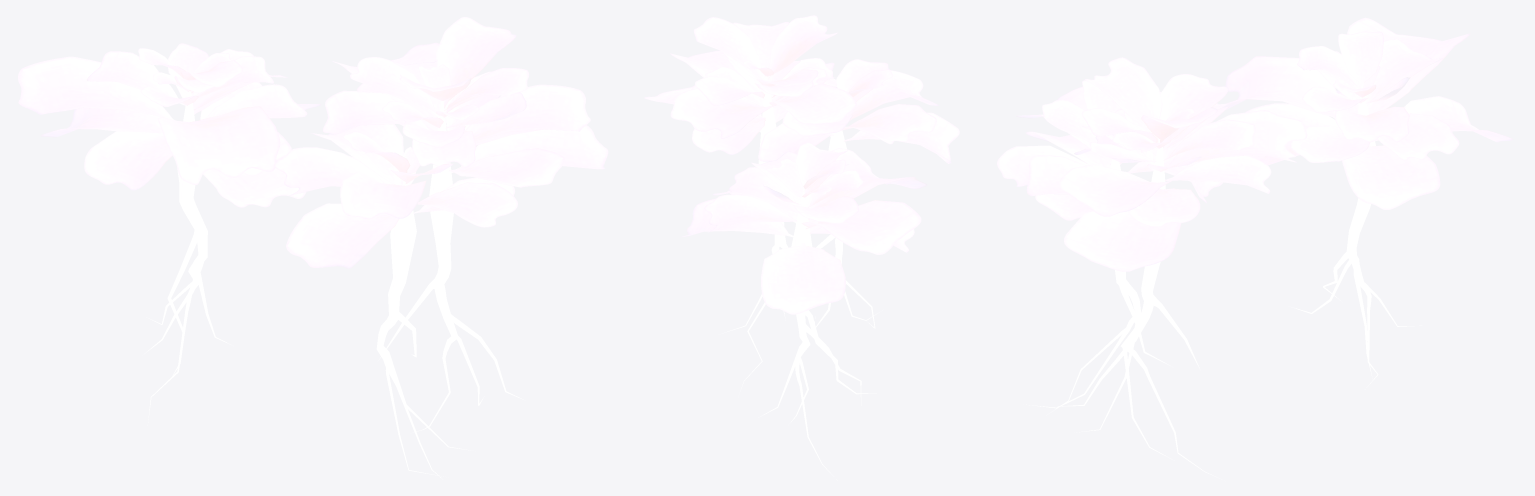
The picture shows the model from 3 angles, left to right: view 1: azimuth 30°, elevation 25°; view 2: azimuth 150°, elevation 25°; view 3: azimuth 270°, elevation 25°; orthographic projection. The views are drawn at different scales.
Visible parts, largest first — view 1: SM_Water_Lettuce_03_LOD0; view 2: SM_Water_Lettuce_03_LOD0; view 3: SM_Water_Lettuce_03_LOD0.
Boxes of the visible parts, x1,y1,x2,y2 form: SM_Water_Lettuce_03_LOD0: (18, 17, 608, 479); SM_Water_Lettuce_03_LOD0: (644, 15, 959, 480); SM_Water_Lettuce_03_LOD0: (997, 17, 1513, 479).
Size of the model in its own units: 0.8158 by 0.7199 by 0.8682.
1 material, 1 textured.
